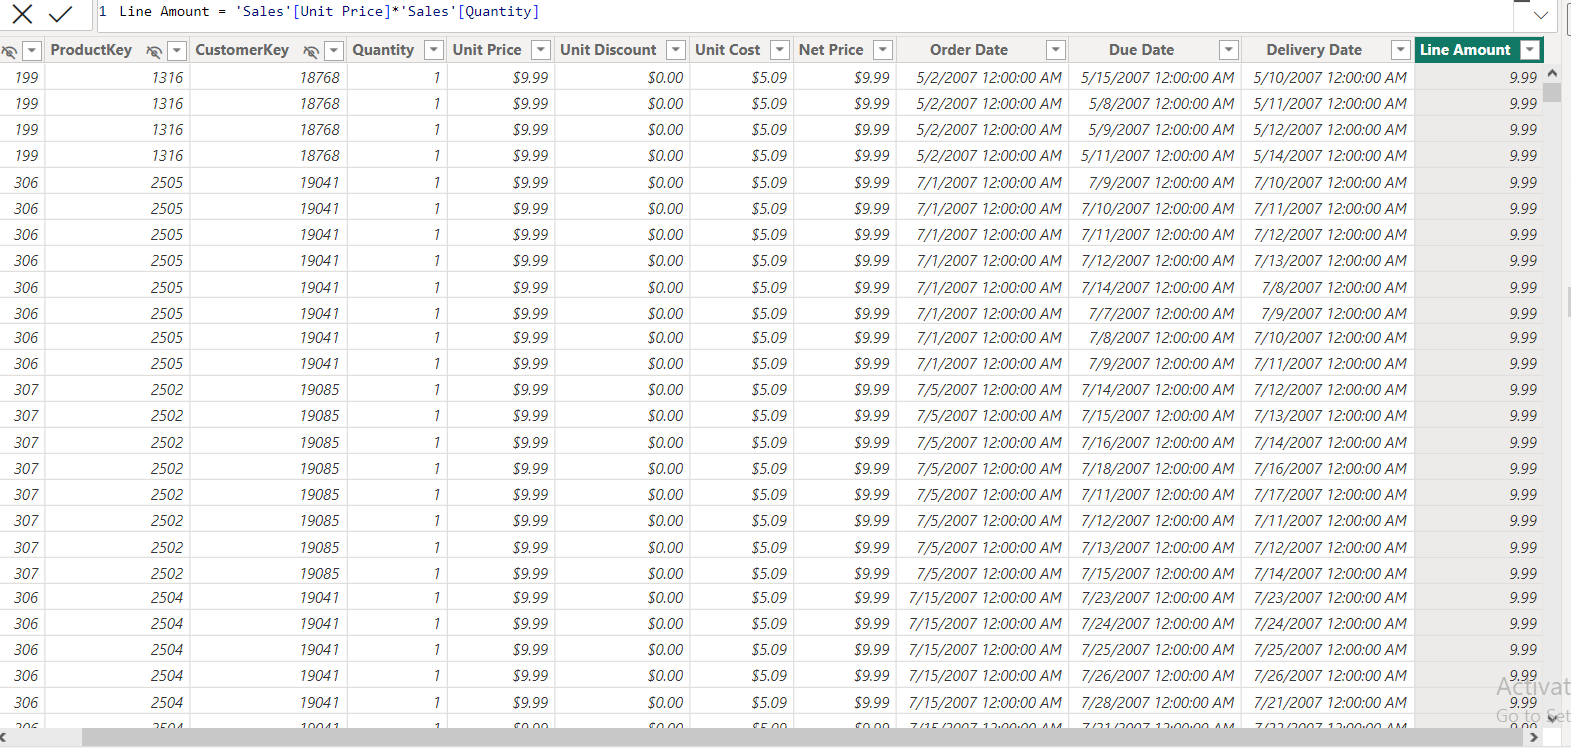

The page's visual inventory and layout, read from the dashboard file:
{"tool":"powerbi","page":{"name":"Page 1","canvas":[1280,720],"ordinal":0},"visuals":[{"type":"actionButton","box":[0,0,100,40],"z":1000},{"type":"tableEx","box":[100.2,90.6,499.5,269],"z":1001}]}

Visuals, with their boxes on the page's 1280x720 design canvas (x1, y1, x2, y2). These are canvas units, not pixel positions in the 1571x748 screenshot, which may show the page scaled, cropped or inside an application window:
actionButton: box=[0, 0, 100, 40]
tableEx: box=[100, 91, 600, 360]
